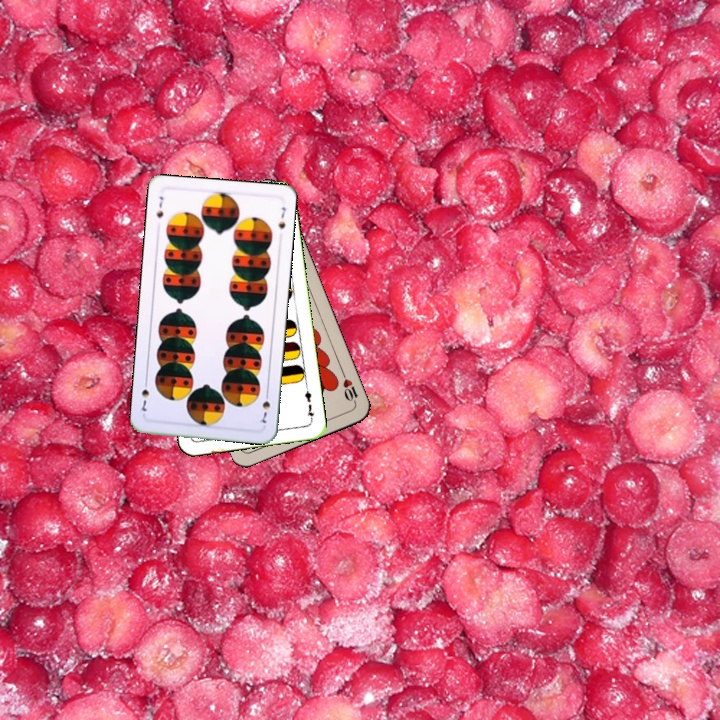E7: (301, 383, 317, 423)
H10: (338, 367, 360, 406)
S7: (255, 387, 273, 425), (152, 192, 166, 220)
